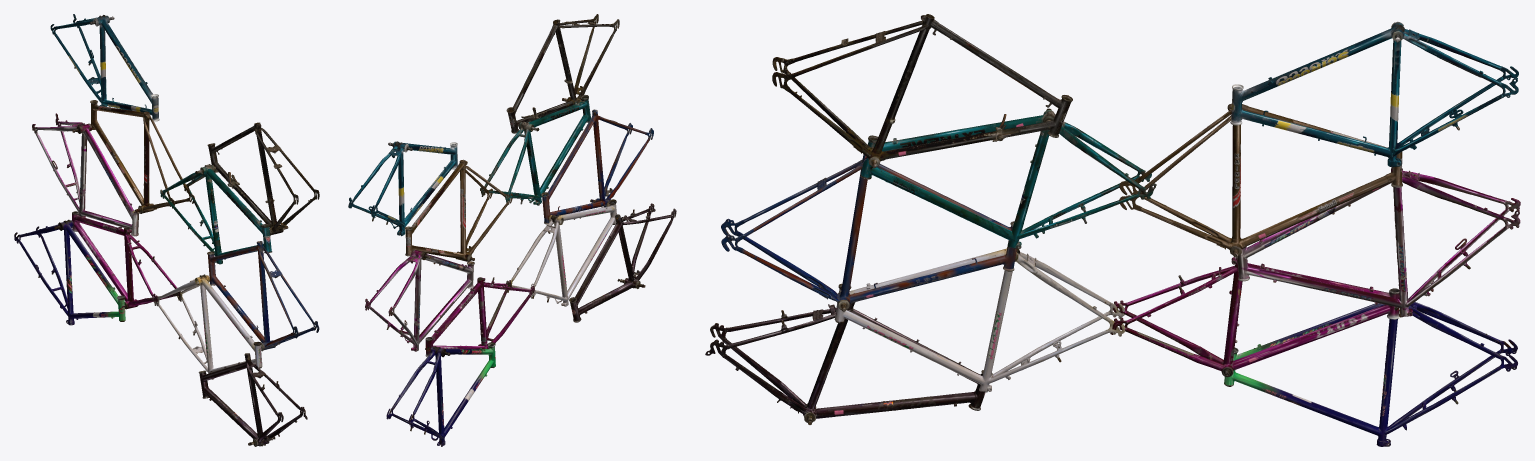
File: FrameStructure_test_v1_vertical.glb
The picture shows the model from 3 angles, left to right: view 1: azimuth 30°, elevation 25°; view 2: azimuth 150°, elevation 25°; view 3: azimuth 270°, elevation 25°; orthographic projection. The views are drawn at different scales.
Size of the model in its own units: 0.3784 by 1.76 by 2.84.
10 materials, 10 textured.
